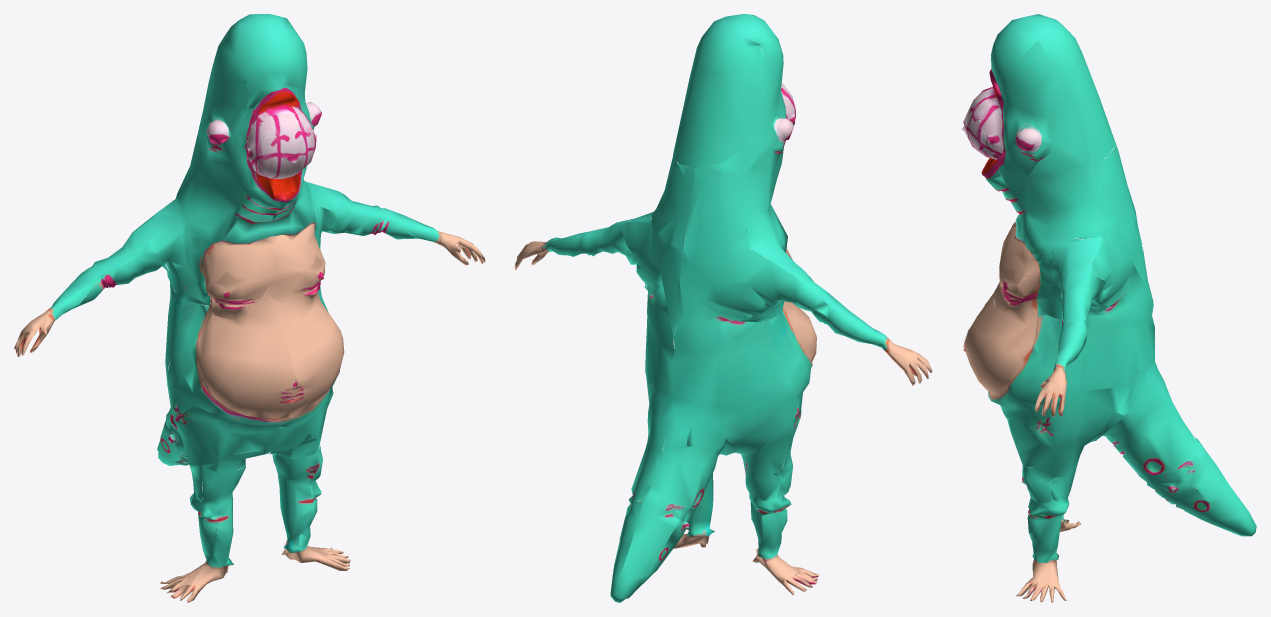
The picture shows the model from 3 angles, left to right: view 1: azimuth 30°, elevation 25°; view 2: azimuth 150°, elevation 25°; view 3: azimuth 270°, elevation 25°; orthographic projection. The views are drawn at different scales.
Parts seen in each view (by area): view 1: tripo_node_5b457f22-7599-45aa-abae-28d897446a77; view 2: tripo_node_5b457f22-7599-45aa-abae-28d897446a77; view 3: tripo_node_5b457f22-7599-45aa-abae-28d897446a77.
Boxes of the visible parts, bbox=[...] form: tripo_node_5b457f22-7599-45aa-abae-28d897446a77: bbox=[14, 14, 485, 602]; tripo_node_5b457f22-7599-45aa-abae-28d897446a77: bbox=[514, 14, 932, 602]; tripo_node_5b457f22-7599-45aa-abae-28d897446a77: bbox=[961, 14, 1256, 602].
Bounding box in the file's own units: 0.8239 × 1 × 0.4921.
Materials: 1 (1 with a texture image).
